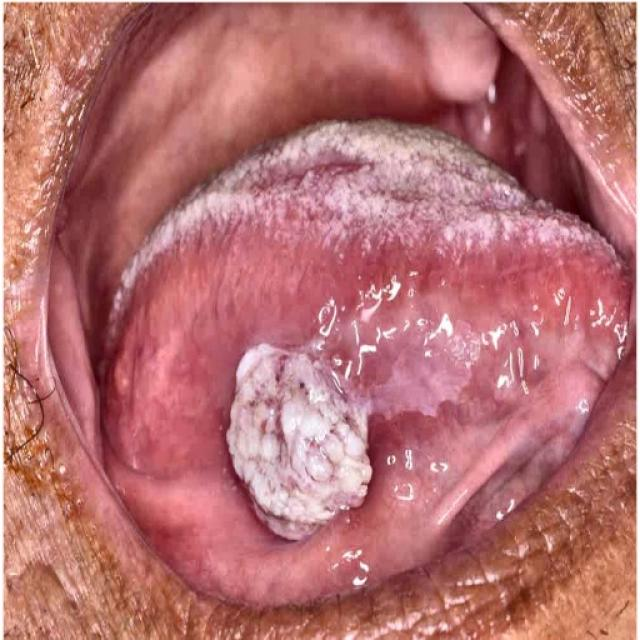cancer-detection: (97, 114, 635, 411), (205, 273, 551, 554)
processing_area: (48, 9, 631, 591)
